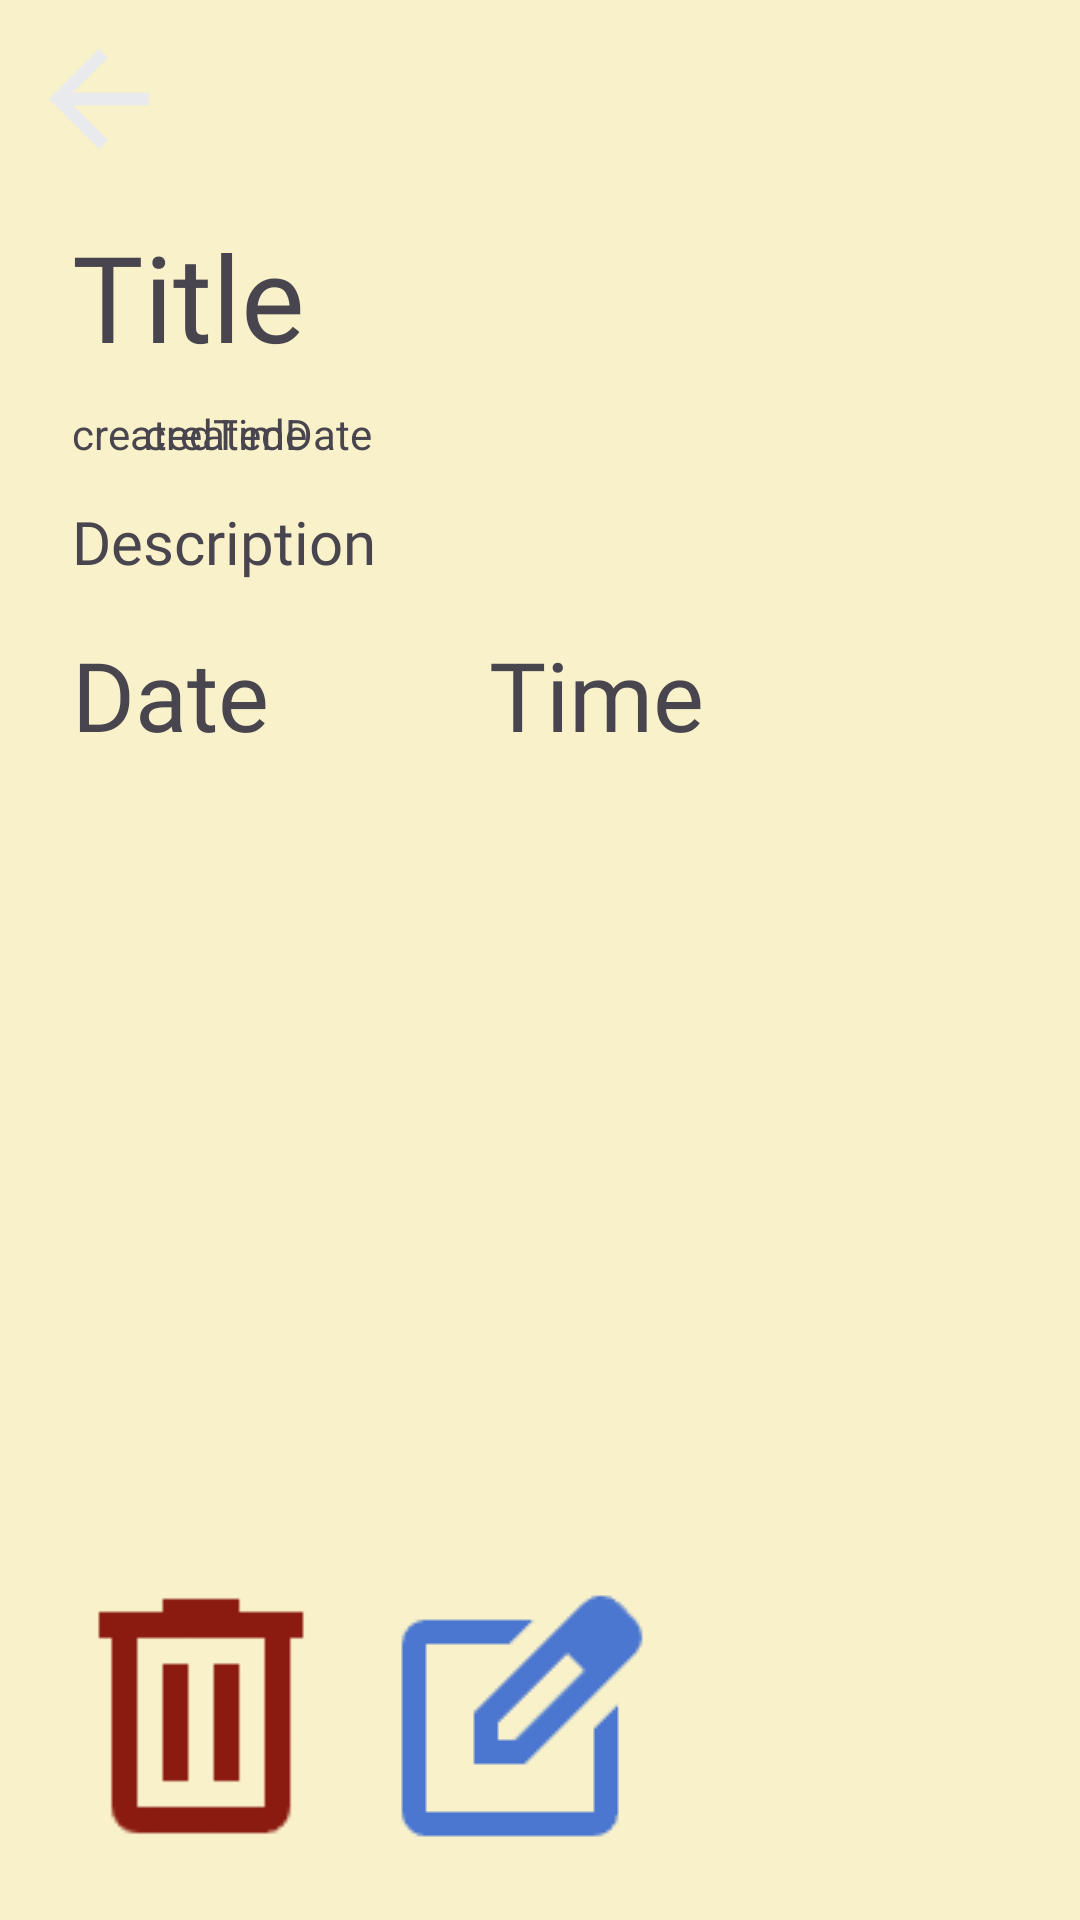

Icon click points for this 1080px×1920px phone screenshot, format point (x, y):
arrow back: point (99, 99)
delete: point (201, 1716)
